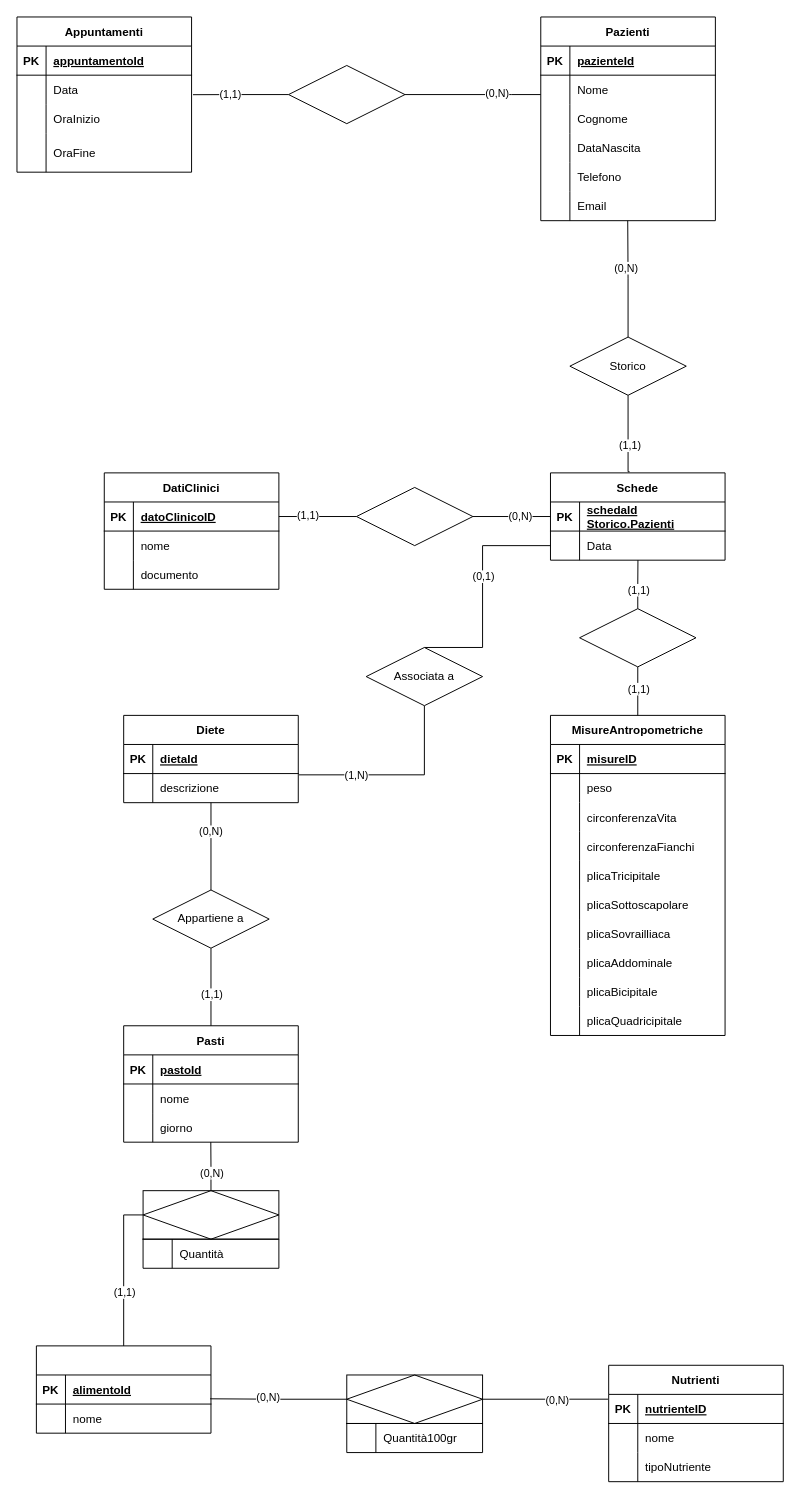
This 800x1499 diagram has some shape labels left out. The box of each missing label's shape, as (x1, y1, x2, y2) in pixels:
Alimenti: (35, 1345, 211, 1433)
appuntamentoCon: (288, 65, 405, 124)
Composizione: (346, 1374, 483, 1423)
Porzione: (142, 1190, 279, 1239)
Riferite a: (579, 608, 696, 667)
Riferito a: (356, 486, 473, 546)
